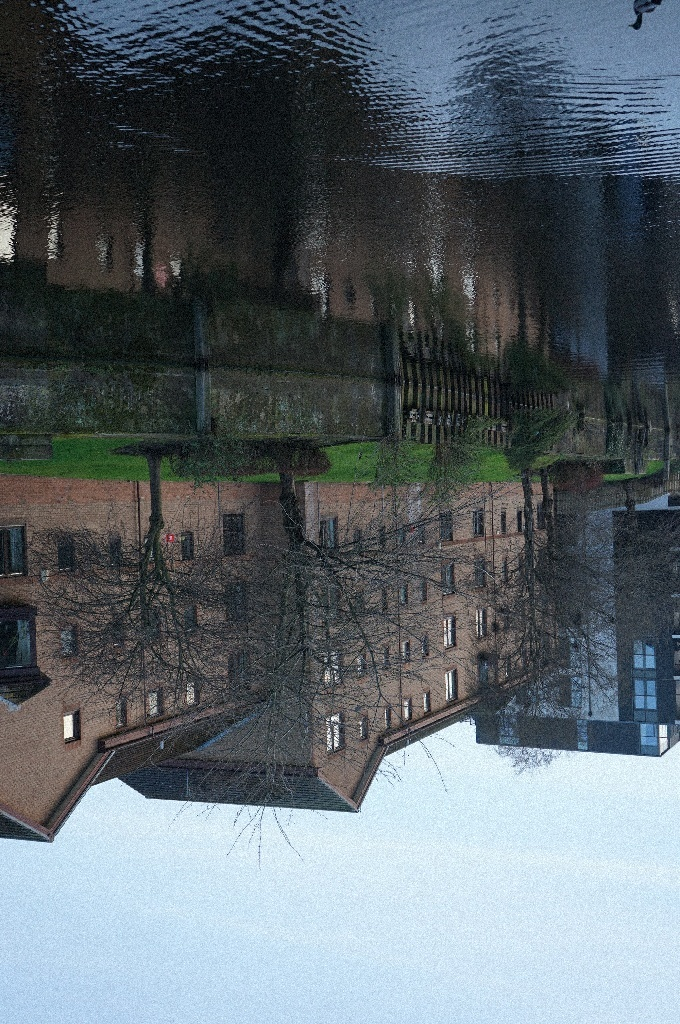Tree: (149, 421, 479, 870), (22, 424, 257, 750), (440, 444, 645, 779), (587, 466, 676, 660)
